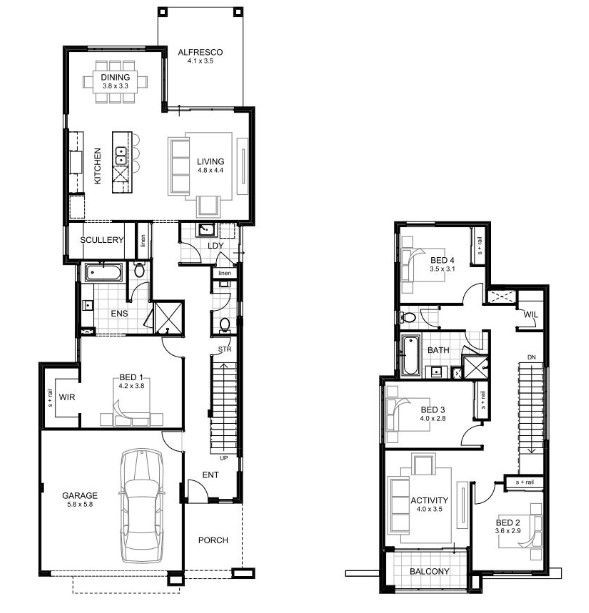door: (473, 473, 504, 507), (183, 478, 217, 507), (461, 417, 488, 452), (415, 305, 446, 333), (463, 325, 490, 357), (173, 244, 210, 267), (159, 428, 189, 455), (460, 281, 487, 308), (162, 334, 185, 365), (210, 287, 230, 318), (127, 281, 152, 302)
room: (26, 231, 246, 433), (48, 27, 261, 231), (382, 376, 557, 601), (29, 418, 205, 591), (387, 218, 558, 382)
wall: (59, 33, 258, 233), (32, 431, 56, 582), (375, 438, 393, 595), (173, 447, 192, 589), (244, 101, 264, 233), (42, 422, 181, 438), (465, 483, 483, 589), (59, 129, 77, 232), (541, 430, 554, 572), (234, 317, 246, 461), (30, 360, 54, 427), (390, 258, 403, 379), (484, 339, 502, 425), (539, 287, 557, 366), (59, 45, 79, 115), (63, 44, 166, 57), (383, 445, 482, 457), (482, 220, 501, 276), (200, 356, 216, 422), (490, 280, 549, 297), (70, 286, 86, 341), (439, 218, 495, 231), (233, 260, 249, 303), (233, 469, 250, 509), (37, 359, 84, 372), (380, 368, 402, 388)
window: (83, 37, 144, 61), (178, 100, 234, 118)
